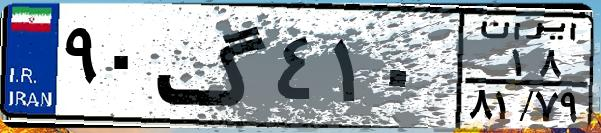0: (385, 28, 445, 110), (110, 28, 156, 98)
1: (330, 28, 385, 110), (508, 27, 537, 80), (495, 70, 520, 125)
4: (270, 28, 330, 110)
7: (535, 70, 560, 125)
8: (537, 27, 568, 80), (470, 70, 495, 125)
9: (57, 26, 110, 100), (560, 70, 590, 125)
گ: (156, 12, 270, 120)
